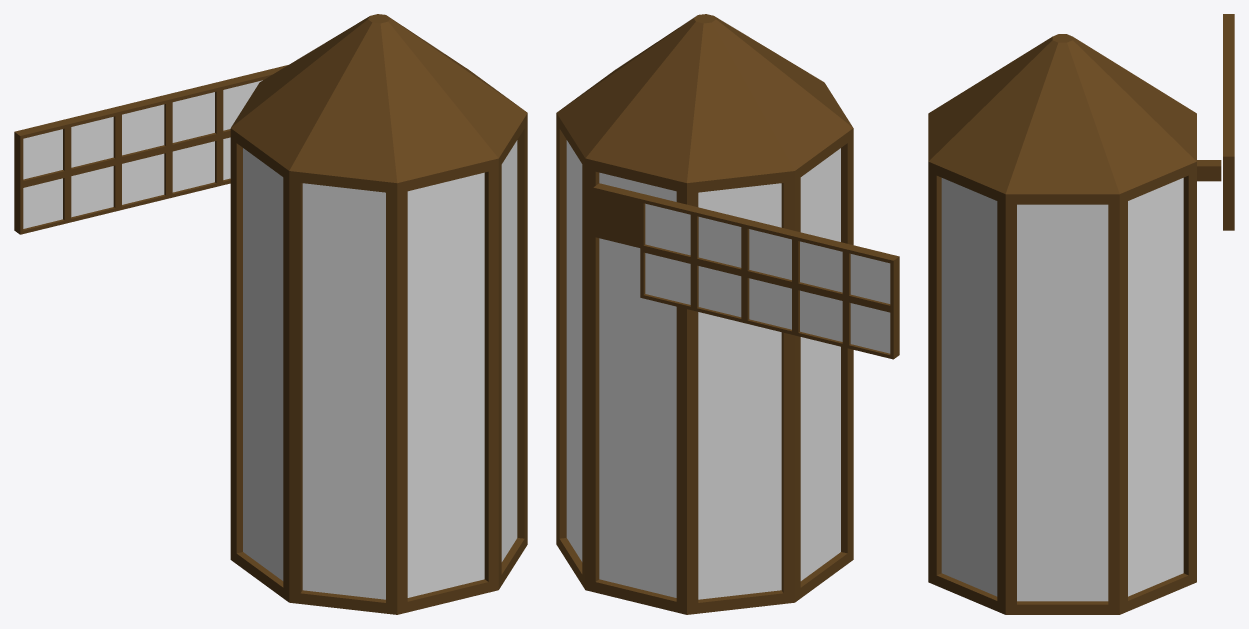
File: windmill.fbx
The picture shows the model from 3 angles, left to right: view 1: azimuth 30°, elevation 25°; view 2: azimuth 150°, elevation 25°; view 3: azimuth 270°, elevation 25°; orthographic projection. The views are drawn at different scales.
Visible parts, largest first — view 1: Cube, Cube.001; view 2: Cube, Cube.001; view 3: Cube, Cube.001.
Boxes of the visible parts, box(x1,y1,x2,y2) form: Cube: box(230, 14, 527, 614); Cube.001: box(14, 65, 287, 234); Cube: box(556, 14, 853, 614); Cube.001: box(593, 183, 899, 359); Cube: box(928, 34, 1221, 614); Cube.001: box(1223, 14, 1234, 230).
Bounding box in the file's own units: 1684 × 2168 × 1156.
